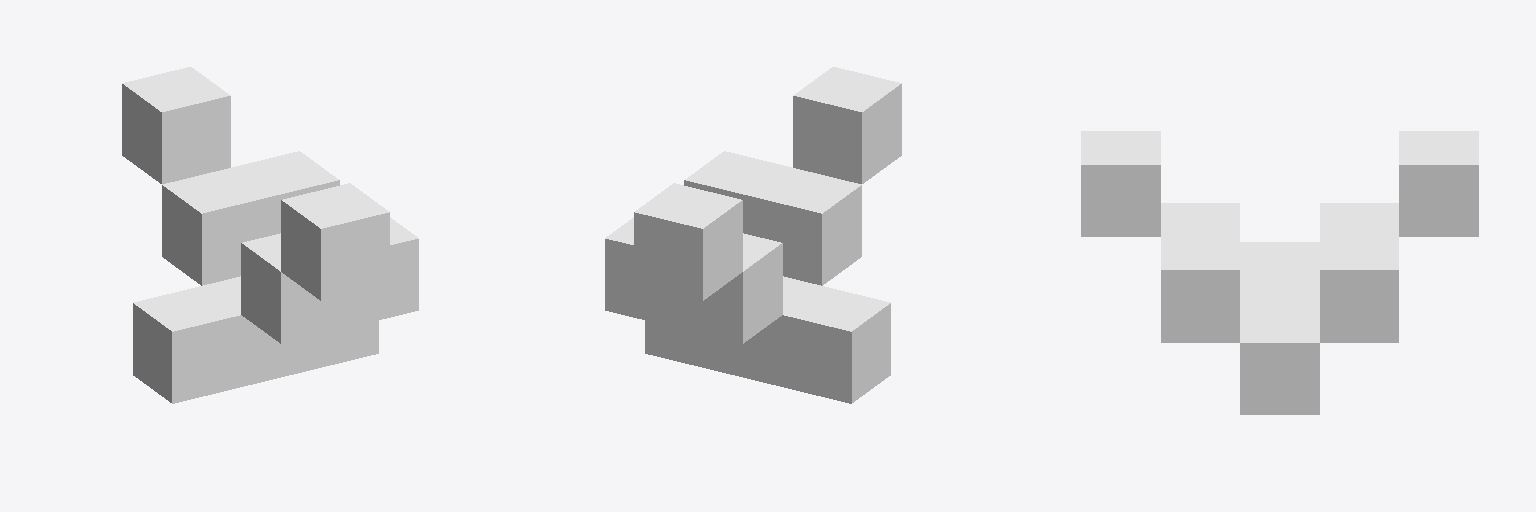
Rendered from bat-1-walk.obj.
3 views of the same model, side by side, from view 1: azimuth 30°, elevation 25°; view 2: azimuth 150°, elevation 25°; view 3: azimuth 270°, elevation 25° (orthographic).
Parts seen in each view (by area): view 1: walk; view 2: walk; view 3: walk.
Part boxes in pixels (left/top/right/bottom): walk: left=122, top=67, right=418, bottom=403; walk: left=605, top=67, right=901, bottom=403; walk: left=1081, top=131, right=1478, bottom=414.
Size of the model in its own units: 0.3 by 0.3 by 0.5.